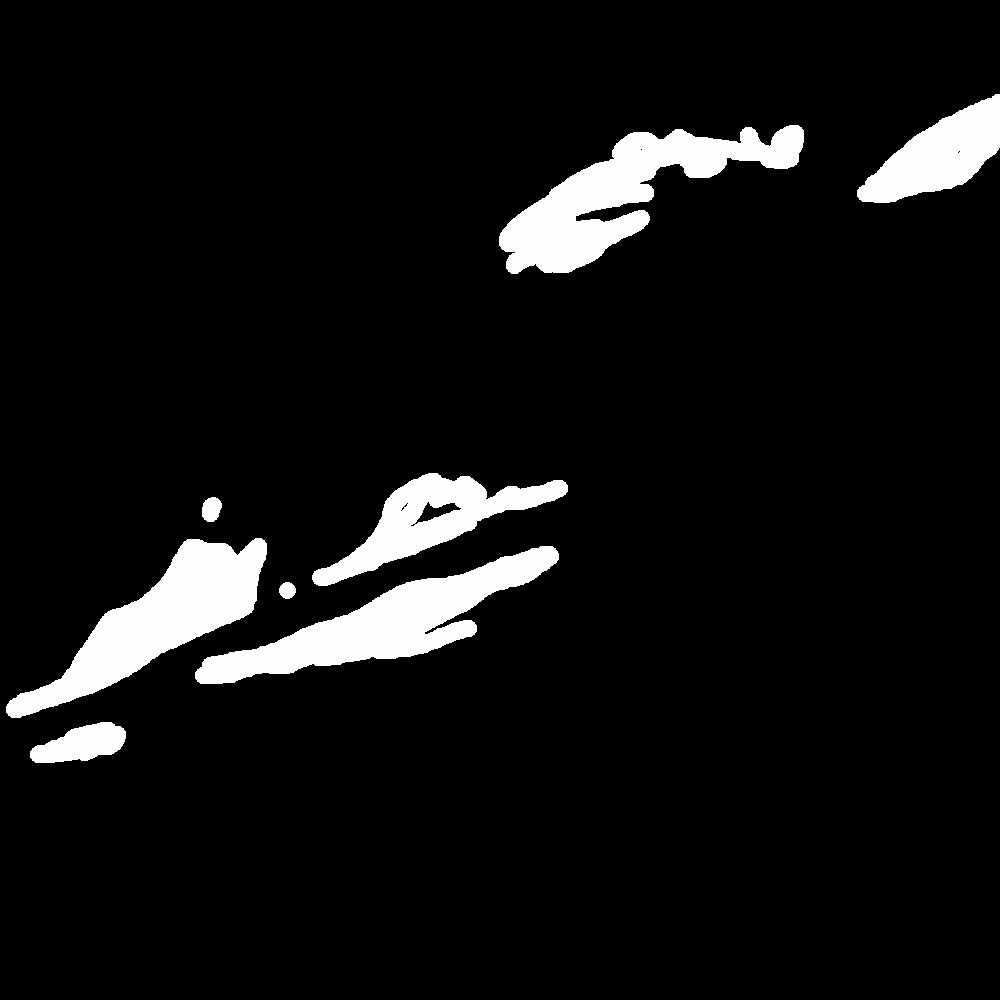illegal: (479, 132, 793, 298), (17, 541, 258, 714), (241, 544, 553, 666), (863, 98, 1000, 205), (352, 475, 468, 571), (49, 709, 149, 760), (454, 485, 569, 526), (924, 6, 992, 68)
